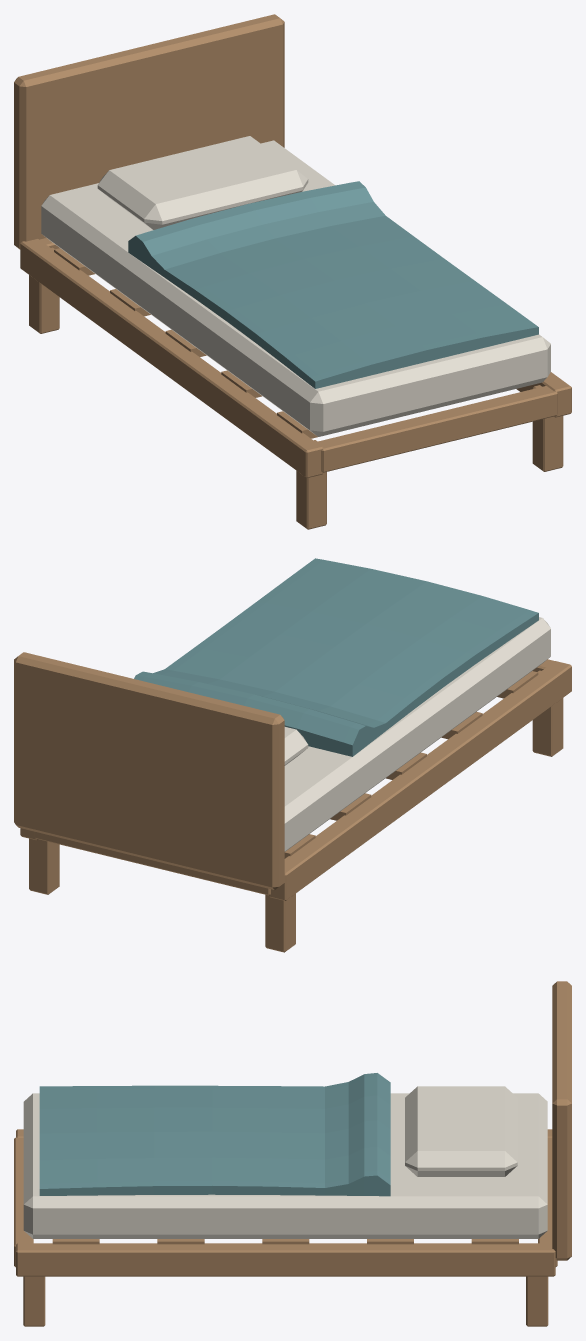
The picture shows the model from 3 angles, top to bottom: view 1: azimuth 30°, elevation 25°; view 2: azimuth 150°, elevation 25°; view 3: azimuth 270°, elevation 25°; orthographic projection. The views are drawn at different scales.
Visible parts, largest first — view 1: Fixed soft duvet with integrated fold, Low headboard, Editable mattress, Long bed rail -0.52, Editable pillow, End bed rail -1.00, Ground leg 0.49 -0.96, Ground leg -0.49 -0.96, Ground leg -0.49 0.96, Long bed rail 0.52; view 2: Low headboard, Fixed soft duvet with integrated fold, Editable mattress, Long bed rail -0.52, End bed rail 1.00, Ground leg -0.49 0.96, Ground leg 0.49 0.96, Ground leg -0.49 -0.96, Editable pillow; view 3: Fixed soft duvet with integrated fold, Editable mattress, Long bed rail 0.52, Editable pillow, Low headboard, End bed rail -1.00, Ground leg 0.49 -0.96, Ground leg 0.49 0.96, End bed rail 1.00.
Part boxes in pixels (bbox=[...]): Fixed soft duvet with integrated fold: bbox=[128, 181, 538, 388]; Low headboard: bbox=[14, 14, 284, 249]; Editable mattress: bbox=[41, 140, 550, 436]; Long bed rail -0.52: bbox=[20, 239, 323, 477]; Editable pillow: bbox=[97, 136, 308, 229]; End bed rail -1.00: bbox=[316, 386, 557, 472]; Ground leg 0.49 -0.96: bbox=[532, 385, 563, 471]; Ground leg -0.49 -0.96: bbox=[296, 440, 326, 529]; Ground leg -0.49 0.96: bbox=[29, 247, 59, 333]; Long bed rail 0.52: bbox=[516, 372, 571, 417]; Low headboard: bbox=[14, 652, 284, 889]; Fixed soft duvet with integrated fold: bbox=[134, 558, 538, 756]; Editable mattress: bbox=[284, 617, 550, 851]; Long bed rail -0.52: bbox=[269, 661, 571, 900]; End bed rail 1.00: bbox=[34, 831, 270, 895]; Ground leg -0.49 0.96: bbox=[265, 893, 295, 952]; Ground leg 0.49 0.96: bbox=[29, 838, 59, 894]; Ground leg -0.49 -0.96: bbox=[532, 670, 563, 756]; Editable pillow: bbox=[284, 727, 308, 765]; Fixed soft duvet with integrated fold: bbox=[39, 1073, 390, 1196]; Editable mattress: bbox=[23, 1093, 547, 1238]; Long bed rail 0.52: bbox=[16, 1243, 555, 1276]; Editable pillow: bbox=[405, 1086, 517, 1176]; Low headboard: bbox=[552, 981, 571, 1260]; End bed rail -1.00: bbox=[14, 1137, 33, 1267]; Ground leg 0.49 -0.96: bbox=[23, 1276, 45, 1326]; Ground leg 0.49 0.96: bbox=[526, 1276, 548, 1326]; End bed rail 1.00: bbox=[538, 1138, 557, 1266].
Size of the model in its own units: 1.1 by 0.96 by 2.13.
